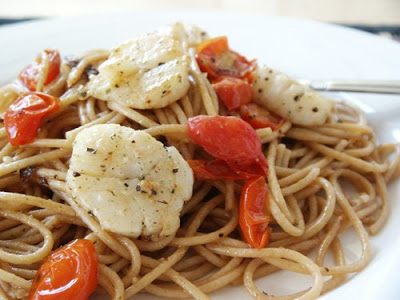plain spaghetti: (3, 65, 392, 297)
